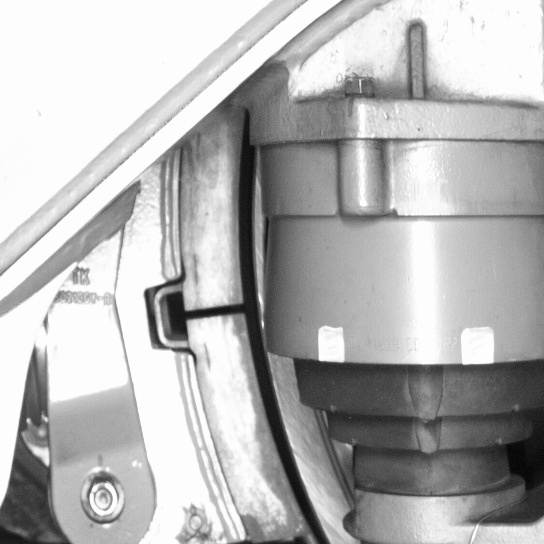KnifeSwitch: (173, 140, 332, 543)
